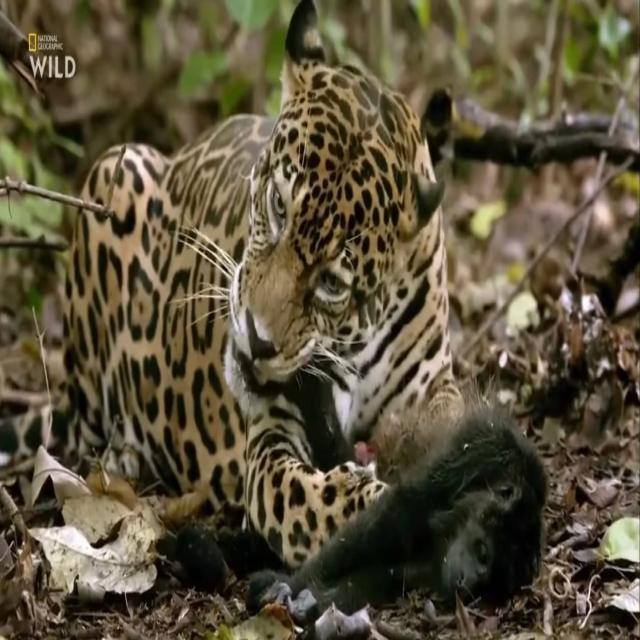Jaguar: (63, 0, 464, 568)
